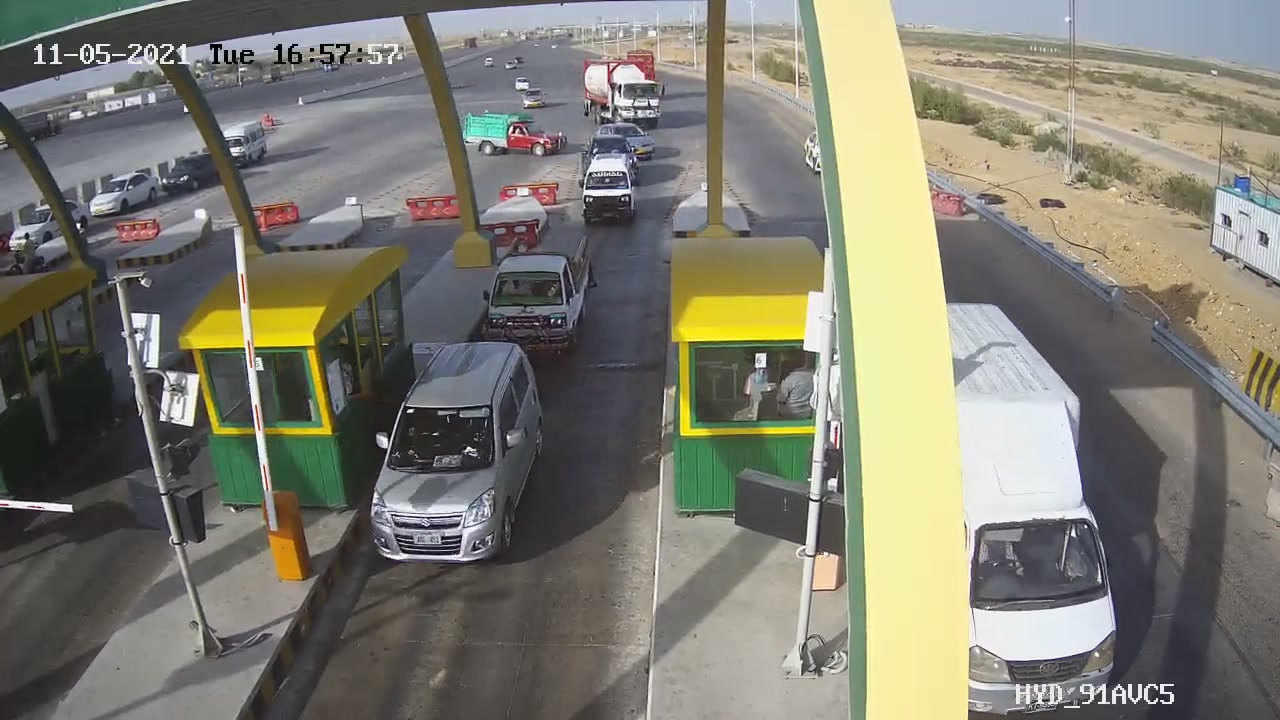F1: (344, 327, 562, 588)
